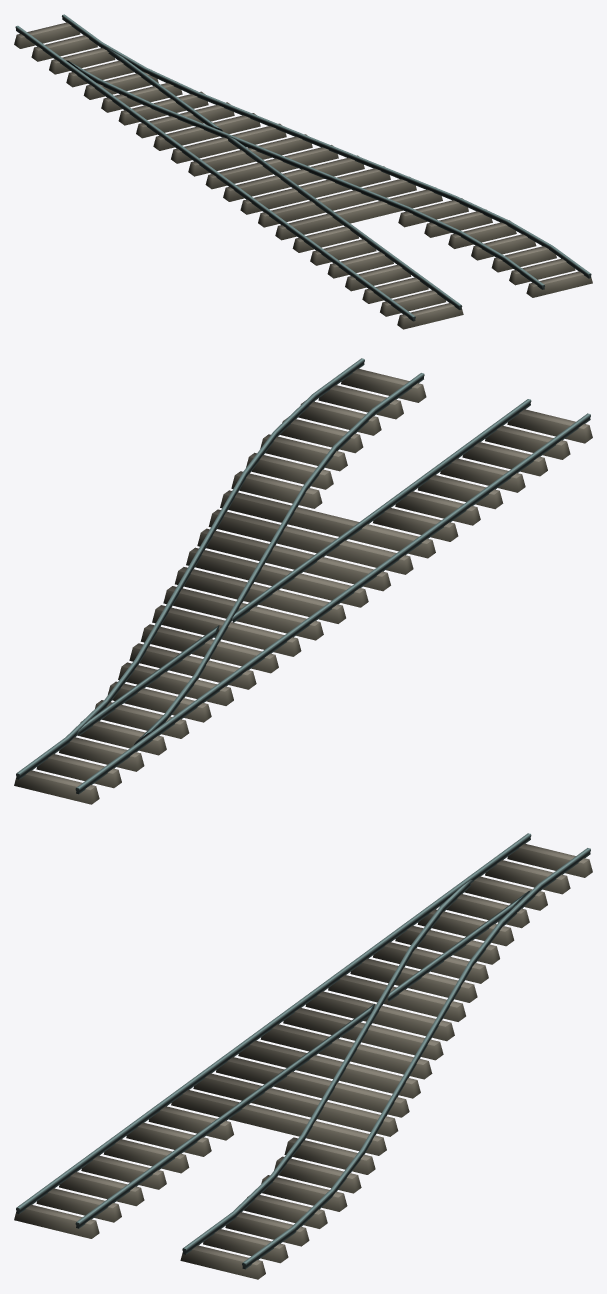
The model's file is Train_Tracks_1D.fbx.
3 views of the same model, one above another, from view 1: azimuth 30°, elevation 25°; view 2: azimuth 150°, elevation 25°; view 3: azimuth 330°, elevation 25° (orthographic). The views are drawn at different scales.
Visible parts, largest first — view 1: Train_Tracks_1D; view 2: Train_Tracks_1D; view 3: Train_Tracks_1D.
Boxes of the visible parts, box(x1,y1,x2,y2) form: Train_Tracks_1D: box(14, 14, 592, 329); Train_Tracks_1D: box(14, 358, 592, 804); Train_Tracks_1D: box(14, 833, 592, 1279).
Bounding box in the file's own units: 8.8 × 0.625 × 31.94.
